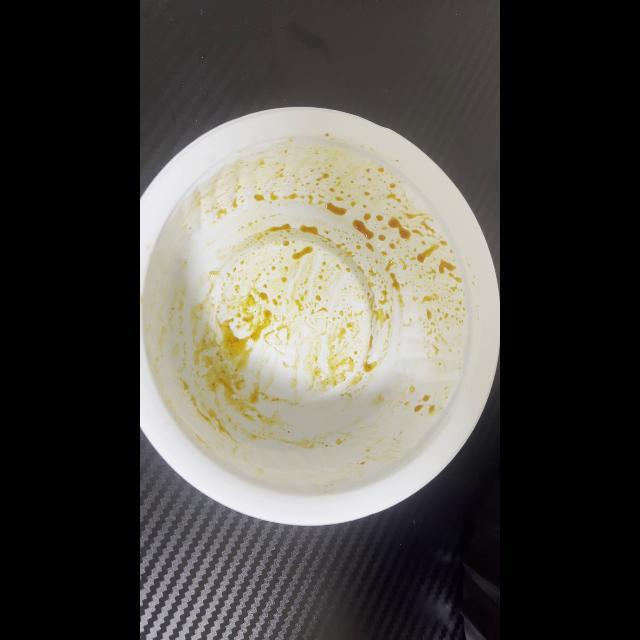dirty: (140, 109, 496, 518)
